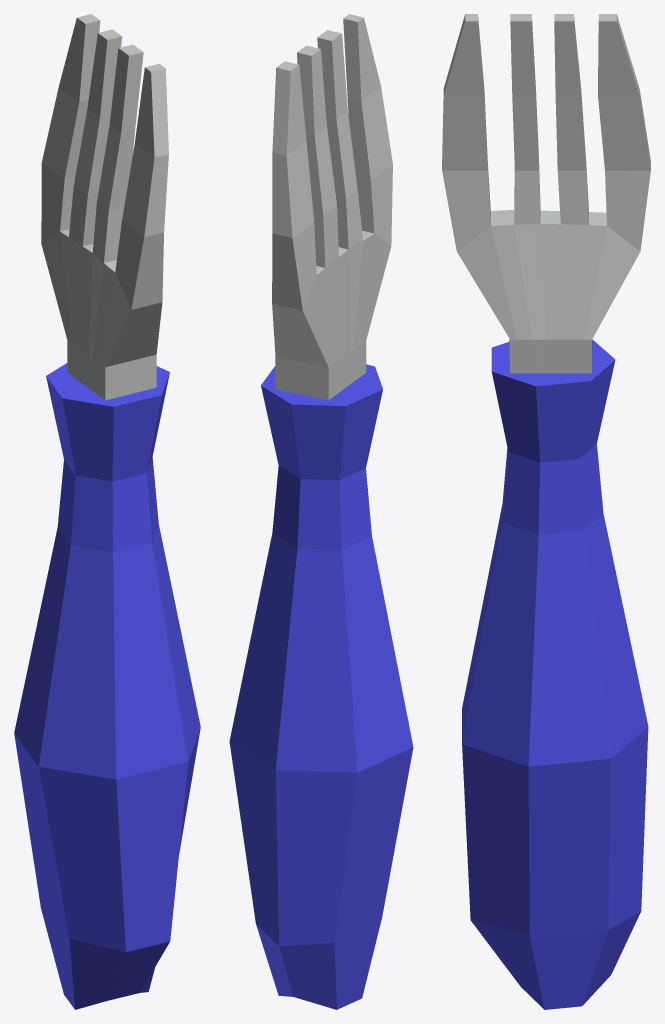
File: fork-blue.fbx
3 renders of one model, left to right at view 1: azimuth 30°, elevation 25°; view 2: azimuth 150°, elevation 25°; view 3: azimuth 270°, elevation 25°, orthographic. The views are drawn at different scales.
Visible parts, largest first — view 1: fork.002; view 2: fork.002; view 3: fork.002.
Boxes of the visible parts, x1,y1,x2,y2 form: fork.002: [14, 14, 200, 1009]; fork.002: [229, 14, 413, 1009]; fork.002: [442, 14, 650, 1009].
Size of the model in its own units: 142 by 800 by 155.
